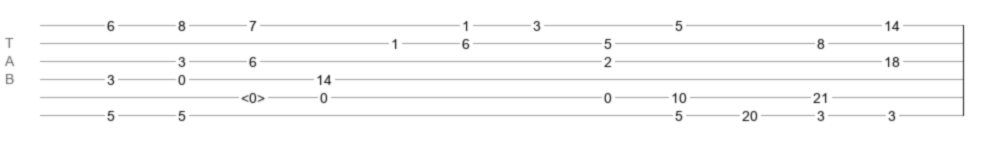0: (178, 72, 186, 82), (320, 90, 328, 100), (604, 90, 612, 100)
1: (391, 36, 399, 46), (462, 18, 470, 28)
10: (671, 90, 687, 100)
14: (316, 72, 332, 82), (884, 18, 900, 28)
18: (884, 54, 900, 64)
2: (604, 54, 612, 64)
20: (742, 108, 758, 118)
21: (813, 90, 829, 100)
3: (107, 72, 115, 82), (178, 54, 186, 64), (533, 18, 541, 28), (817, 108, 825, 118), (888, 108, 896, 118)
5: (107, 108, 115, 118), (178, 108, 186, 118), (604, 36, 612, 46), (675, 108, 683, 118), (675, 18, 683, 28)
6: (107, 18, 115, 28), (249, 54, 257, 64), (462, 36, 470, 46)
7: (249, 18, 257, 28)
8: (178, 18, 186, 28), (817, 36, 825, 46)
harmonic: (241, 90, 265, 100)
